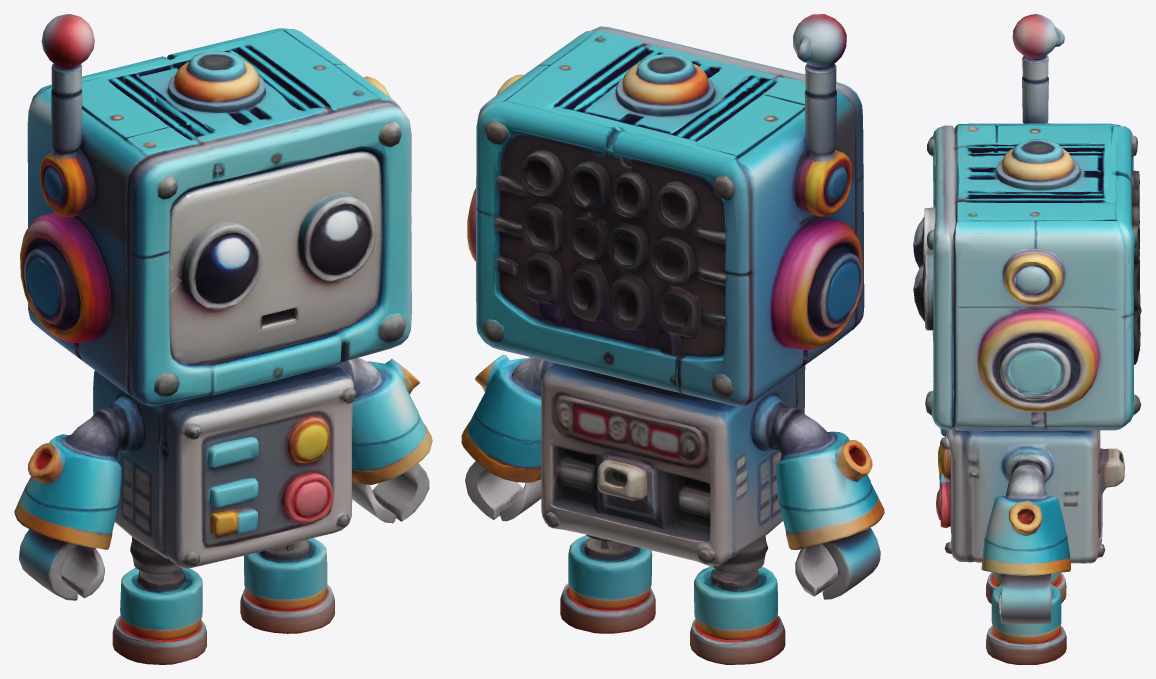
The model's file is robot.glb.
3 renders of one model, left to right at view 1: azimuth 30°, elevation 25°; view 2: azimuth 150°, elevation 25°; view 3: azimuth 270°, elevation 25°, orthographic. The views are drawn at different scales.
Visible parts, largest first — view 1: world_0; view 2: world_0; view 3: world_0.
Part boxes in pixels (<box>): world_0: <box>14,14,432,664</box>; world_0: <box>461,14,884,664</box>; world_0: <box>913,14,1141,664</box>.
Size of the model in its own units: 0.6514 by 1 by 0.3806.
1 material, 1 textured.
